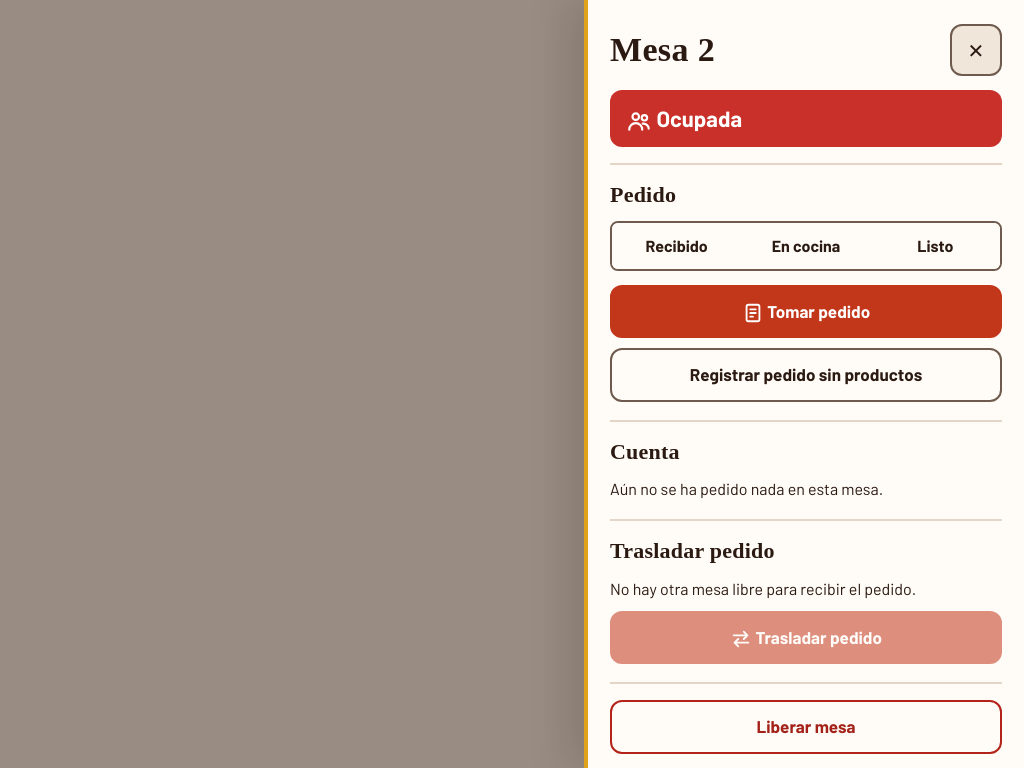
Scenario: DetalleMesa: liberar mesa (US-09 CA3 y CA4) › CA4: liberar una mesa sin actividad confirma
Click the button "Liberar mesa" at (806, 727), box [610,700,1002,754]
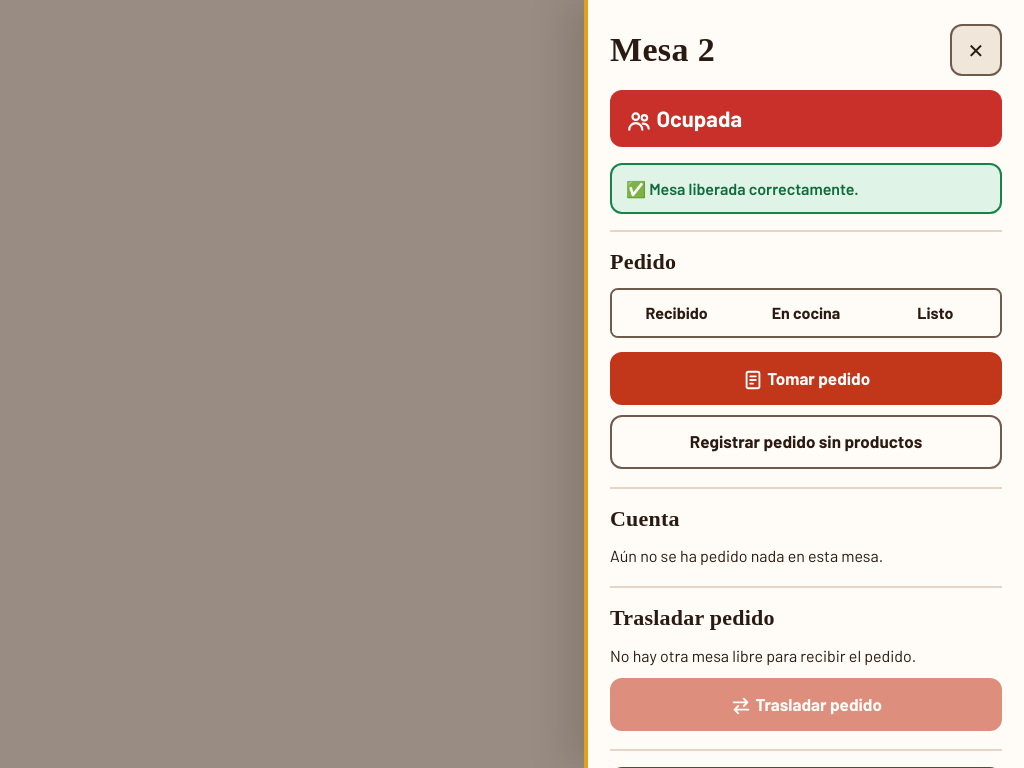
Now the text "✅ Mesa liberada correctamente." is shown, box [610,163,1002,214]
